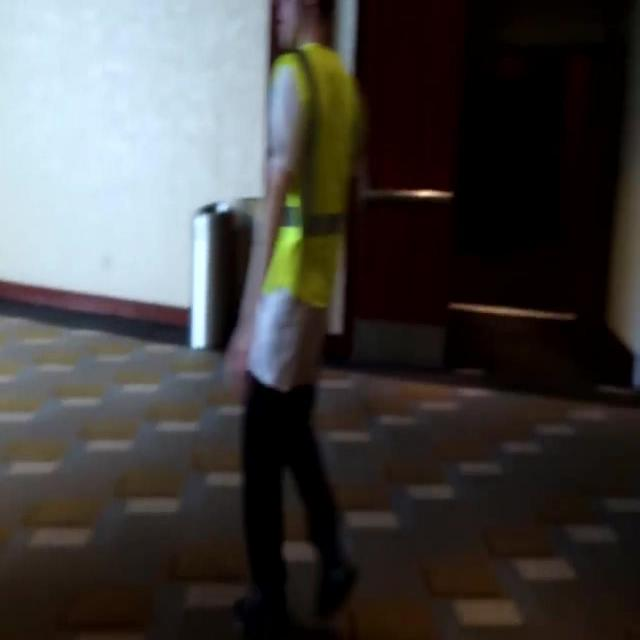Reflective-Jacket: (235, 40, 377, 404)
